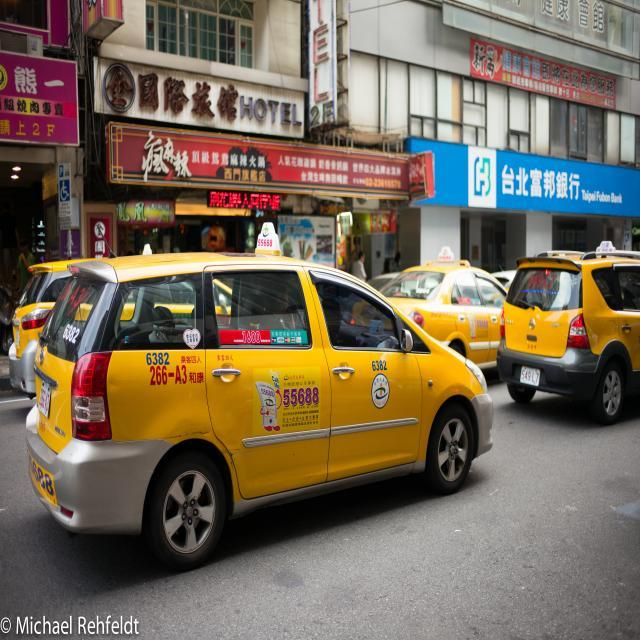taxi: (31, 259, 505, 562), (482, 205, 640, 425), (366, 229, 515, 349), (1, 229, 76, 368)
